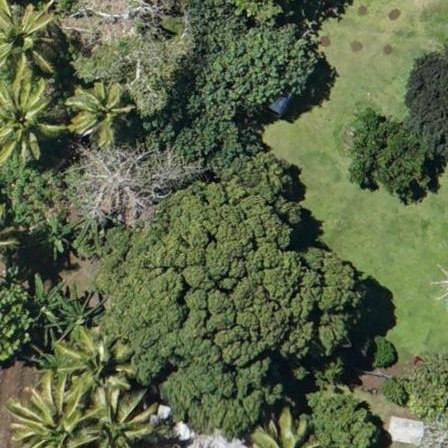palm_tree: (55, 329, 133, 399), (14, 382, 92, 448), (1, 64, 51, 156), (87, 385, 153, 448), (68, 78, 127, 141), (1, 1, 49, 73)
